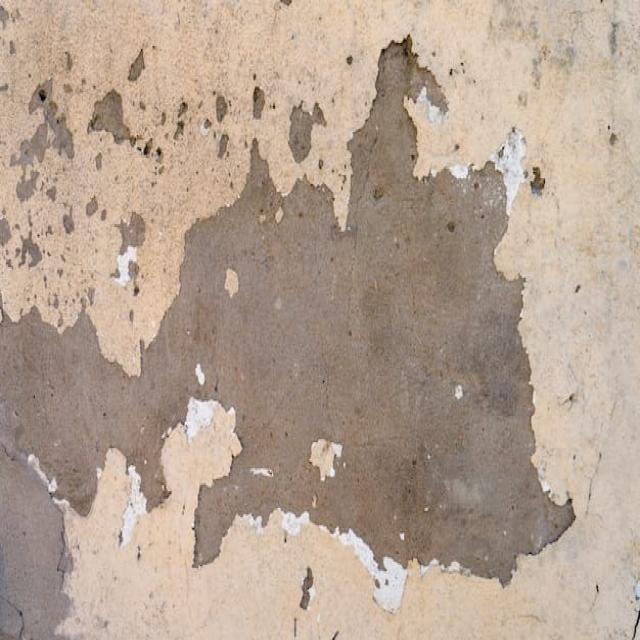Paint peeling: (11, 29, 583, 612), (23, 40, 196, 203)
